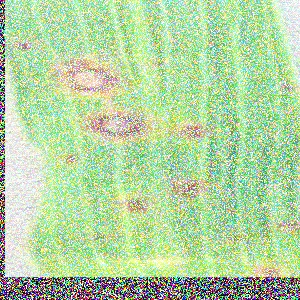Bacterial_Leaf_Blight: (74, 101, 154, 152), (53, 53, 129, 99), (171, 174, 210, 203), (175, 116, 208, 147), (122, 195, 151, 216), (255, 262, 288, 277), (60, 148, 82, 169), (13, 38, 41, 53), (226, 230, 248, 244), (277, 217, 299, 231), (280, 78, 298, 94), (176, 37, 195, 50), (88, 231, 107, 243), (97, 53, 115, 64), (148, 57, 164, 69), (206, 84, 216, 93)
